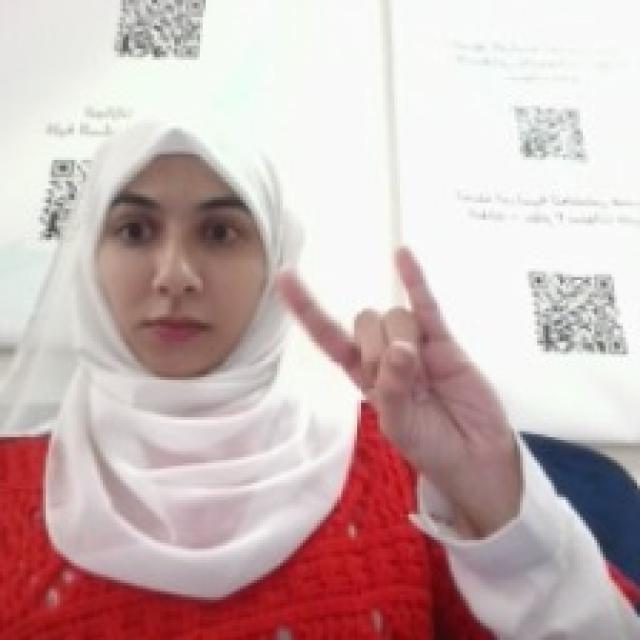No: (269, 234, 514, 469)
